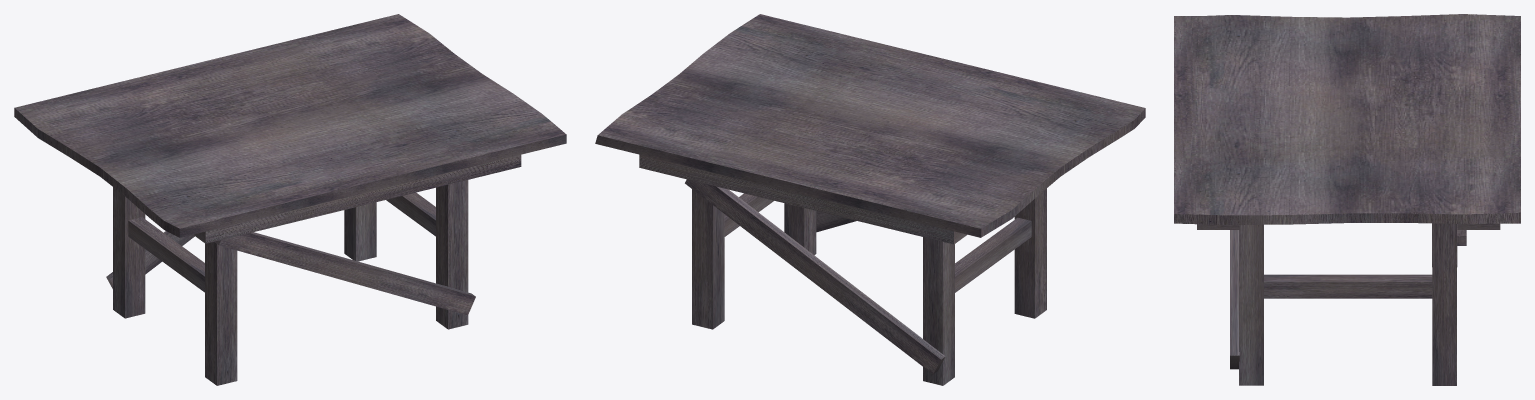
File: table.obj
The picture shows the model from 3 angles, left to right: view 1: azimuth 30°, elevation 25°; view 2: azimuth 150°, elevation 25°; view 3: azimuth 270°, elevation 25°; orthographic projection. The views are drawn at different scales.
Visible parts, largest first — view 1: Cube_Cube.001, Cube.010_Cube.005, Cube.008_Cube.004, Cube.002, Cube.007_Cube.004, Cube.005_Cube.004, Cube.011_Cube.006, Cube.006_Cube.004, Cube.012_Cube.006, Cube.009_Cube.005; view 2: Cube_Cube.001, Cube.009_Cube.005, Cube.001_Cube.002, Cube.006_Cube.004, Cube.005_Cube.004, Cube.008_Cube.004, Cube.011_Cube.006, Cube.007_Cube.004, Cube.012_Cube.006, Cube.010_Cube.005; view 3: Cube_Cube.001, Cube.012_Cube.006, Cube.006_Cube.004, Cube.007_Cube.004, Cube.010_Cube.005.
Boxes of the visible parts, box(x1,y1,x2,y2) form: Cube_Cube.001: box(14, 14, 566, 237); Cube.010_Cube.005: box(214, 232, 475, 315); Cube.008_Cube.004: box(205, 242, 237, 385); Cube.002: box(193, 154, 521, 243); Cube.007_Cube.004: box(436, 180, 468, 329); Cube.005_Cube.004: box(113, 187, 145, 318); Cube.011_Cube.006: box(128, 217, 204, 292); Cube.006_Cube.004: box(344, 202, 376, 261); Cube.012_Cube.006: box(386, 192, 435, 236); Cube.009_Cube.005: box(106, 231, 194, 288); Cube_Cube.001: box(595, 14, 1145, 237); Cube.009_Cube.005: box(685, 179, 945, 374); Cube.001_Cube.002: box(639, 154, 966, 244); Cube.006_Cube.004: box(692, 189, 724, 329); Cube.005_Cube.004: box(923, 237, 954, 385); Cube.008_Cube.004: box(1014, 188, 1046, 318); Cube.011_Cube.006: box(955, 217, 1031, 292); Cube.007_Cube.004: box(784, 203, 816, 255); Cube.012_Cube.006: box(724, 193, 773, 236); Cube.010_Cube.005: box(816, 211, 856, 232); Cube_Cube.001: box(1174, 14, 1520, 224); Cube.012_Cube.006: box(1264, 274, 1432, 298); Cube.006_Cube.004: box(1432, 223, 1456, 385); Cube.007_Cube.004: box(1239, 224, 1263, 385); Cube.010_Cube.005: box(1230, 230, 1239, 369).
Size of the model in its own units: 2.75 by 1.31 by 2.
Materials: 1 (1 with a texture image).
